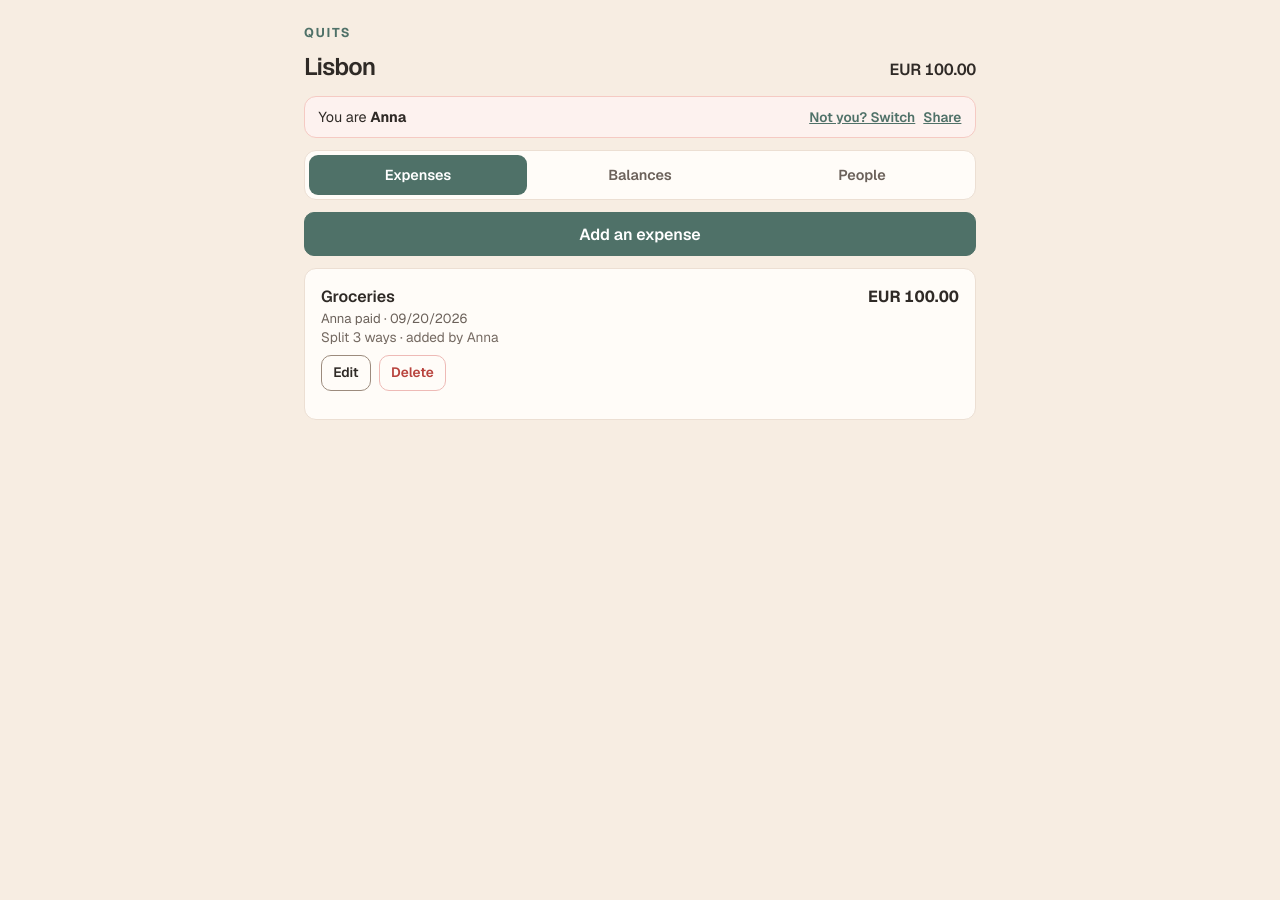
editing and deleting — SPEC §7.15 and §7.16 › reopens a percent expense with percentages that already add to 100%
Click the button "Edit".
click(346, 372)  # box left=321, top=354, right=371, bottom=390
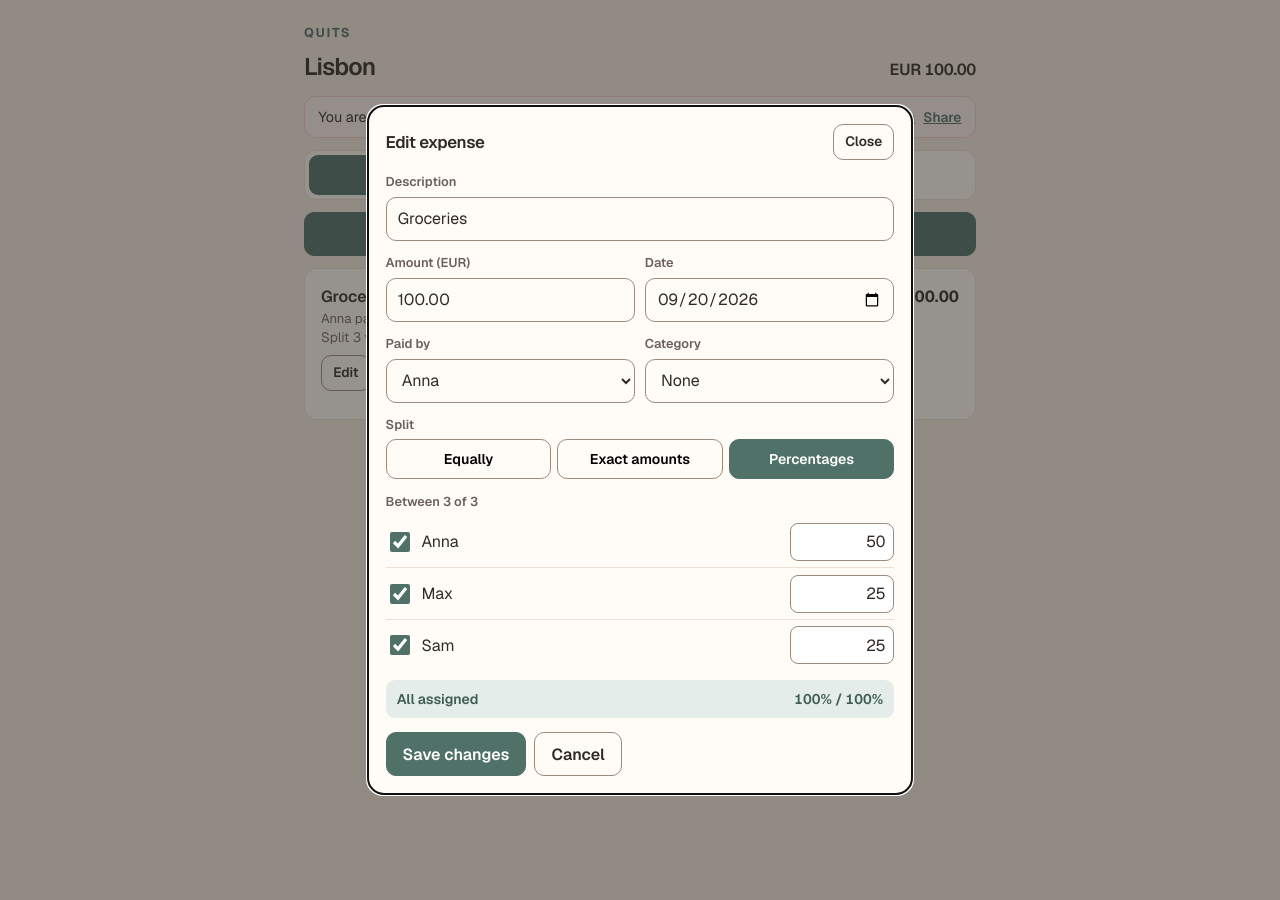
Now the field named "percentage for anna" holds "50", box left=790, top=523, right=894, bottom=561
Now the text "All assigned" is shown, box left=397, top=689, right=478, bottom=710
